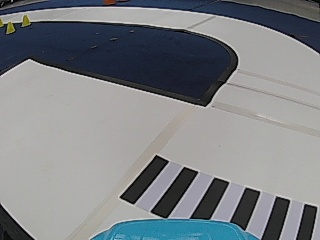CrossWalk: (119, 154, 318, 218)
